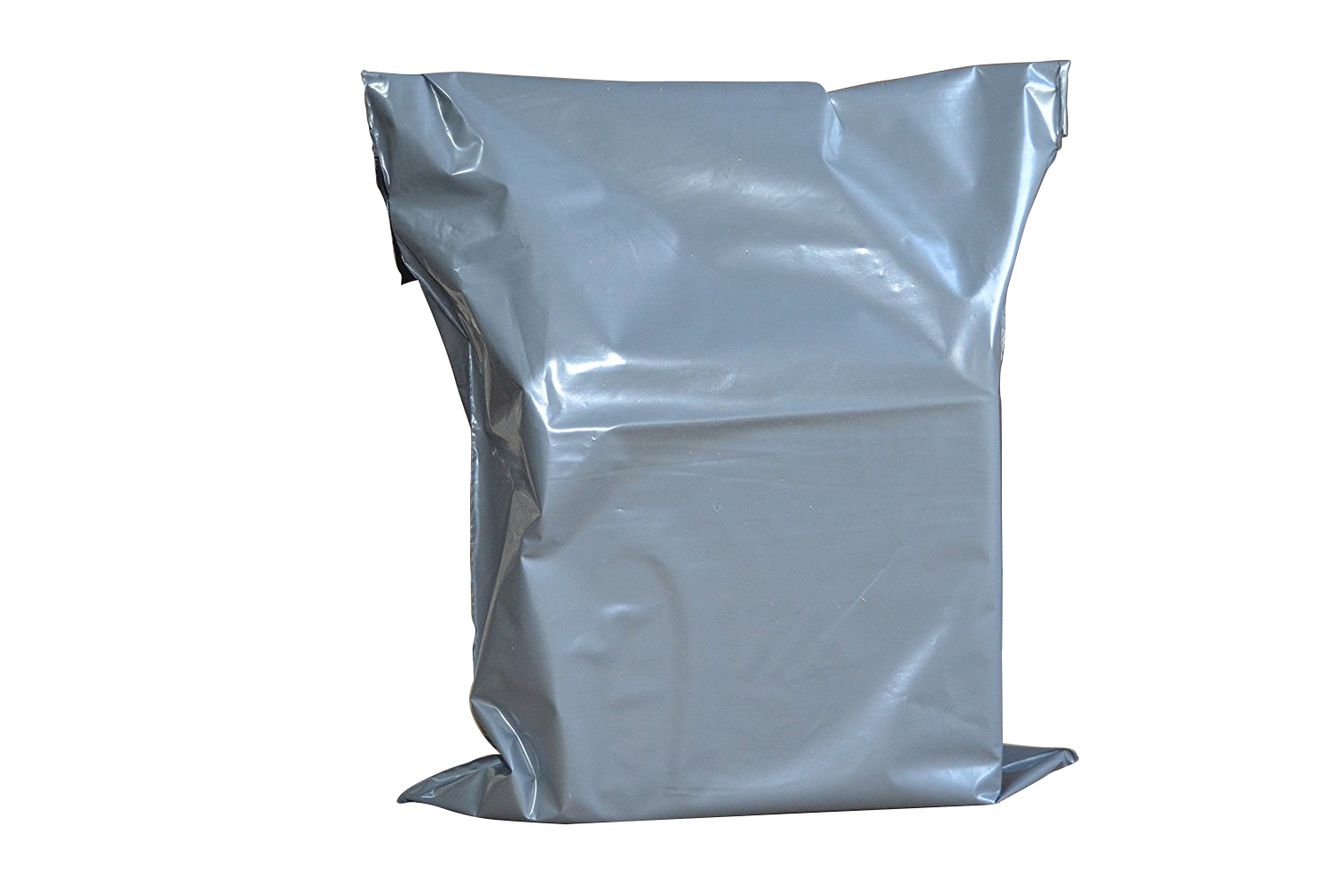塑料袋: (363, 62, 1075, 823)
